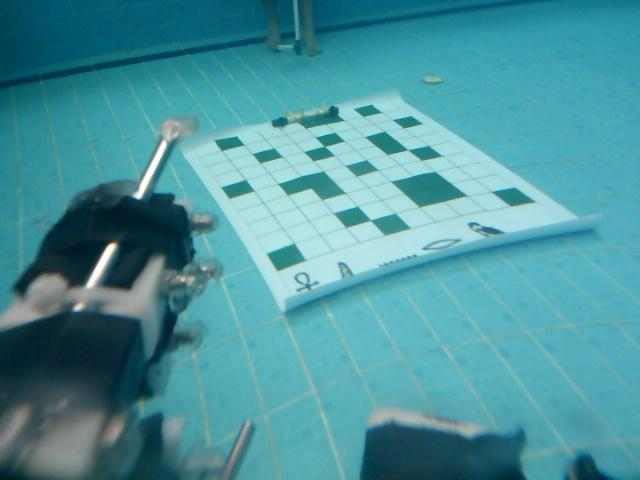Ankh: (293, 271, 319, 293)
Mouth: (422, 238, 462, 251)
Owl: (465, 221, 507, 238)
